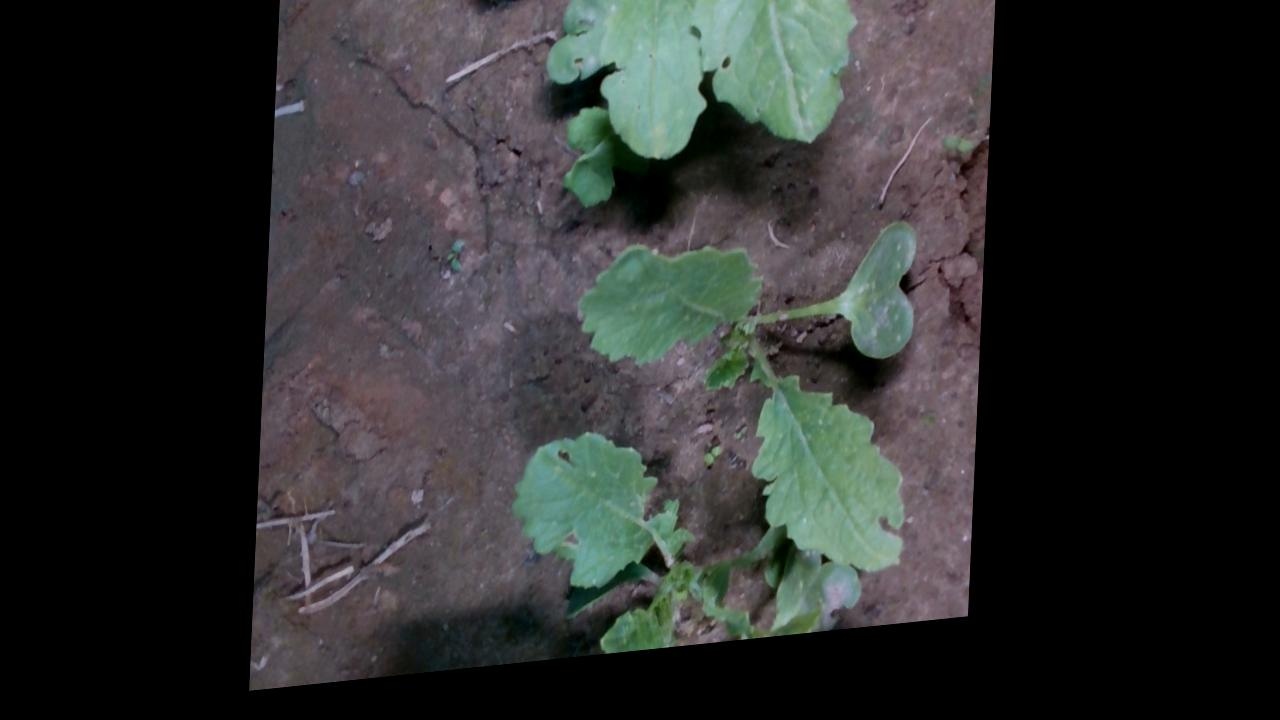weed: (449, 247, 471, 283), (708, 459, 731, 483)
